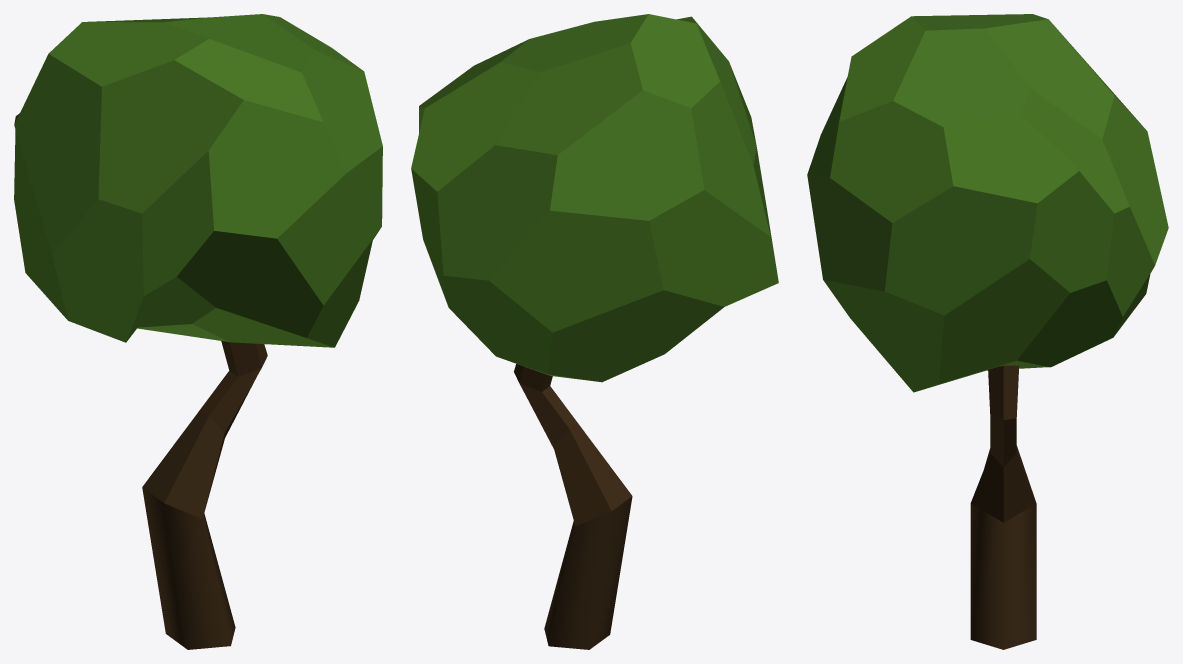
File: TreeLow.obj
3 renders of one model, left to right at view 1: azimuth 30°, elevation 25°; view 2: azimuth 150°, elevation 25°; view 3: azimuth 270°, elevation 25°, orthographic. The views are drawn at different scales.
Parts seen in each view (by area): view 1: Hedra001, Cylinder002; view 2: Hedra001, Cylinder002; view 3: Hedra001, Cylinder002.
Part boxes in pixels (left/top/right/bottom): Hedra001: left=14, top=14, right=382, bottom=347; Cylinder002: left=142, top=341, right=267, bottom=649; Hedra001: left=411, top=14, right=778, bottom=382; Cylinder002: left=514, top=364, right=632, bottom=649; Hedra001: left=807, top=14, right=1168, bottom=392; Cylinder002: left=970, top=365, right=1036, bottom=649.
Size of the model in its own units: 65.79 by 121 by 67.59.
